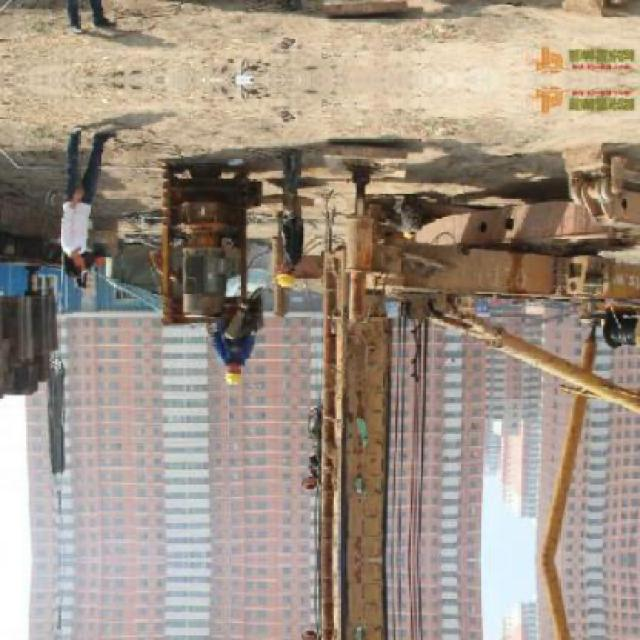con casco: (272, 254, 298, 297), (222, 349, 244, 399)
sin casco: (45, 250, 105, 290)
